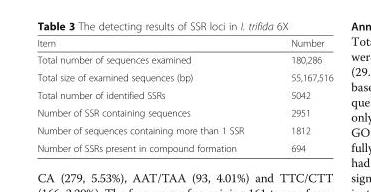table: (36, 37, 332, 153)
table column: (36, 37, 266, 153), (266, 37, 332, 153)
table column header: (36, 37, 332, 51)
table row: (36, 85, 332, 103), (36, 103, 332, 121), (36, 121, 332, 139), (36, 51, 332, 68), (36, 68, 332, 85), (36, 37, 332, 51), (36, 139, 332, 153)
